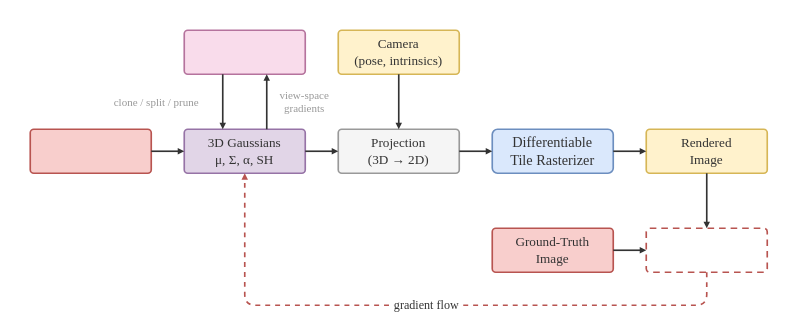
Some shapes in this 796 by 334 pixel diagram are drawn without their labels. The shapes that lost their labels are listed below. From the top down, each one's box as (x1, y1, x2, y2) in pixels, then its label:
(183, 29, 306, 75): Adaptive Density Control
(29, 128, 152, 174): SfM Points (initialization)
(645, 227, 768, 273): L1 + D-SSIM Loss
